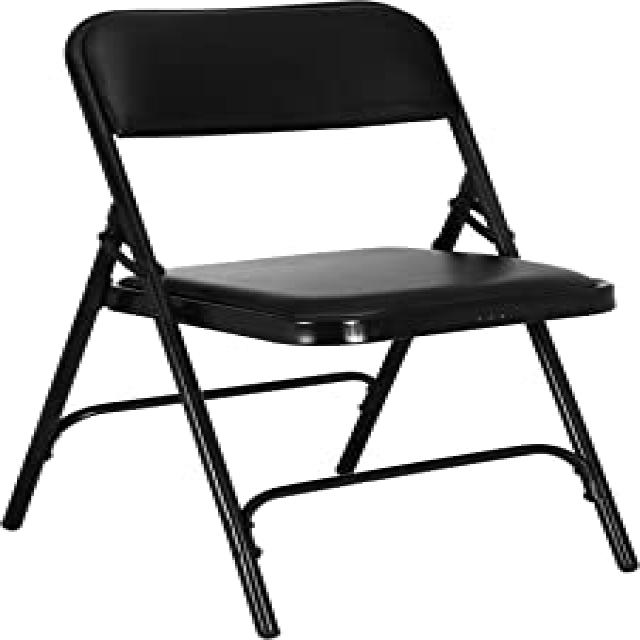obstacle: (17, 5, 634, 604)
